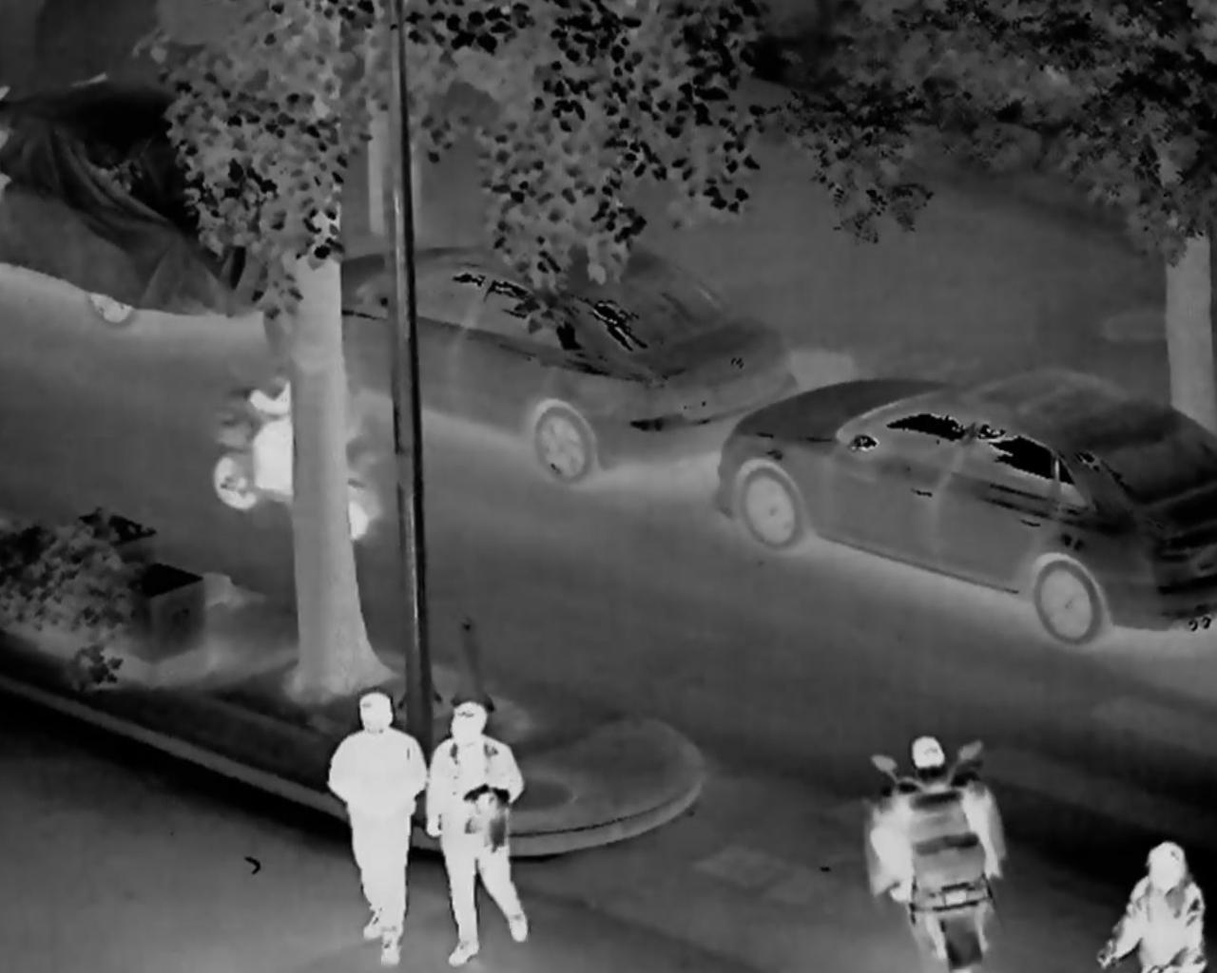person: (422, 695, 534, 969), (328, 681, 433, 973), (886, 720, 995, 960), (237, 359, 348, 519), (1092, 831, 1208, 973)
